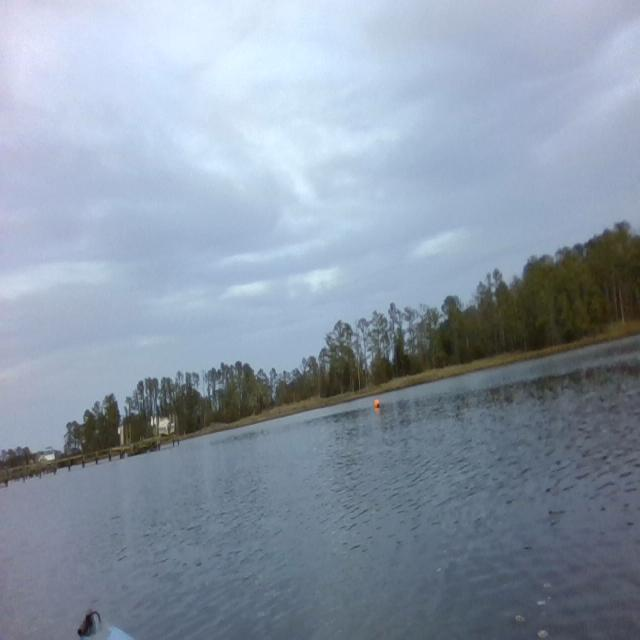Buoy: (373, 398, 381, 409)
